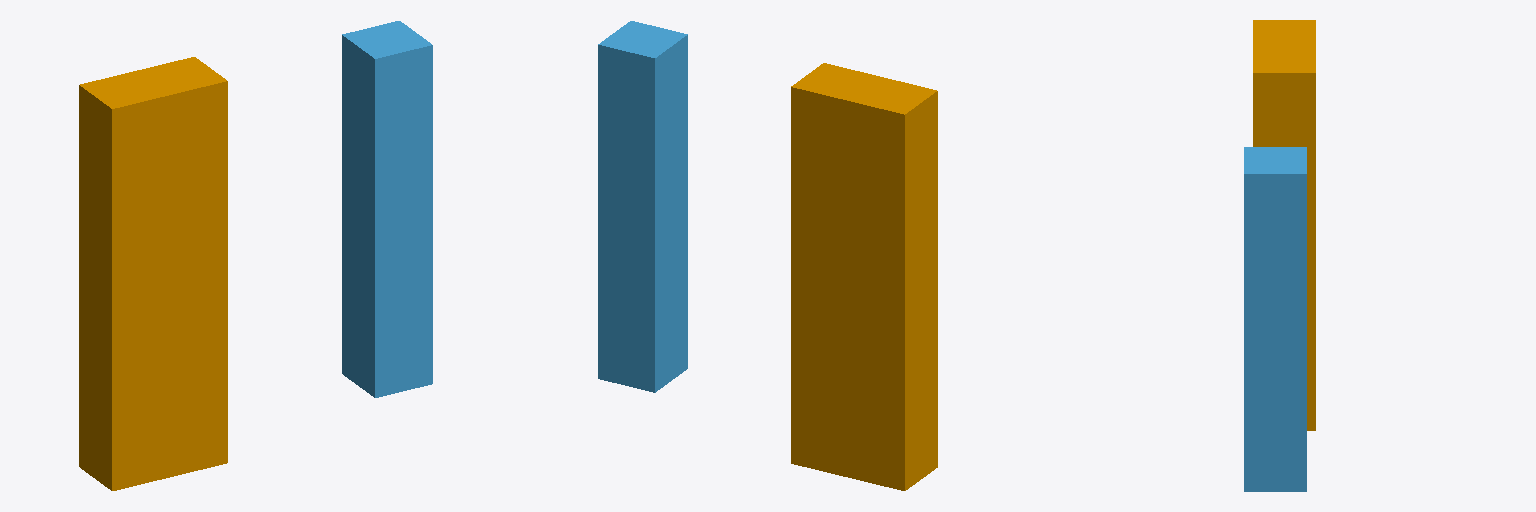
robot.urdf — test:
<?xml version="1.0"?>
<robot name="test">

   <link name="upperLegBridgeR">
       <visual>
           <geometry>
               <box size="0.1 0.05 0.3155"/>
           </geometry>
           <origin xyz="0.0005 0.007 -0.15" rpy="0 0 0"/>
           <material name="upperLegLinkColor" />
       </visual>
       <inertial>
           <mass value="1.94"/>
           <inertia ixx="0.0104" ixy="-0.00000195" ixz="0.0000231" iyy="0.00933" iyz="-0.000127" izz="0.00161"/>
           <origin xyz="-0.00154  -0.00421 -0.111" rpy="0 0 0"/>
       </inertial>
       <collision>
           <geometry>
               <box size="0.1 0.05 0.3155"/>
           </geometry>
           <origin xyz="0.0005 0.007 -0.15" rpy="0 0 0"/>
       </collision>
   </link>

   <joint name="jointLowerLegR" type="revolute">
       <parent link="upperLegBridgeR"/>
       <child link="lowerLegBridgeR"/>
       <origin xyz="0.2 0.0 0.0" rpy="0 0 0"/>
       <axis xyz="0 0 1"/>
       <limit effort="9000" lower="0" upper="1.570796" velocity="10"/>
       <dynamics damping="0.198431592389"/>
   </joint>

   <link name="lowerLegBridgeR">
       <visual>
           <geometry>
               <box size="0.05 0.05 0.28"/>
           </geometry>
           <origin xyz="-0.0015 0 -0.14" rpy="0 0 0"/>
           <material name="upperLegLinkColor" />
       </visual>
       <inertial>
           <mass value="0.267"/>
           <inertia ixx="0.00252" ixy="-0.000000411" ixz="-0.0000238" iyy="0.00245" iyz="0.0000366" izz="0.000110"/>
           <origin xyz="0.00135  0.00496 -0.105" rpy="0 0 0"/>
       </inertial>
       <collision>
           <geometry>
               <box size="0.05 0.05 0.28"/>
           </geometry>
           <origin xyz="0.0015 0 -0.14" rpy="0 0 0"/>
           <!-- <contact_coefficient mu="0.0960723602789"  resitution="0"  k_p="4000"  k_d="0.198431592389" /> -->
       </collision>
   </link>

</robot>

--- What the picture shows (computed from the rendered views, not written in the file) ---
The picture shows the robot from 3 angles, left to right: view 1: azimuth 30°, elevation 25°; view 2: azimuth 150°, elevation 25°; view 3: azimuth 270°, elevation 25°; orthographic projection.
Robot: test — 2 links, 1 joints (1 revolute); root link upperLegBridgeR; default pose: every joint at zero.
Links seen in each view (by area): view 1: upperLegBridgeR, lowerLegBridgeR; view 2: upperLegBridgeR, lowerLegBridgeR; view 3: lowerLegBridgeR, upperLegBridgeR.
Boxes of the visible links, left/top/right/bottom form: upperLegBridgeR: left=79, top=57, right=227, bottom=490; lowerLegBridgeR: left=342, top=21, right=432, bottom=397; upperLegBridgeR: left=791, top=63, right=937, bottom=490; lowerLegBridgeR: left=598, top=21, right=687, bottom=392; lowerLegBridgeR: left=1244, top=147, right=1306, bottom=491; upperLegBridgeR: left=1253, top=20, right=1315, bottom=430.
Bounding box of the posed robot: 0.273 × 0.057 × 0.3155 m (x, y, z).
Geometry: primitives only (box / cylinder / sphere), no mesh files.